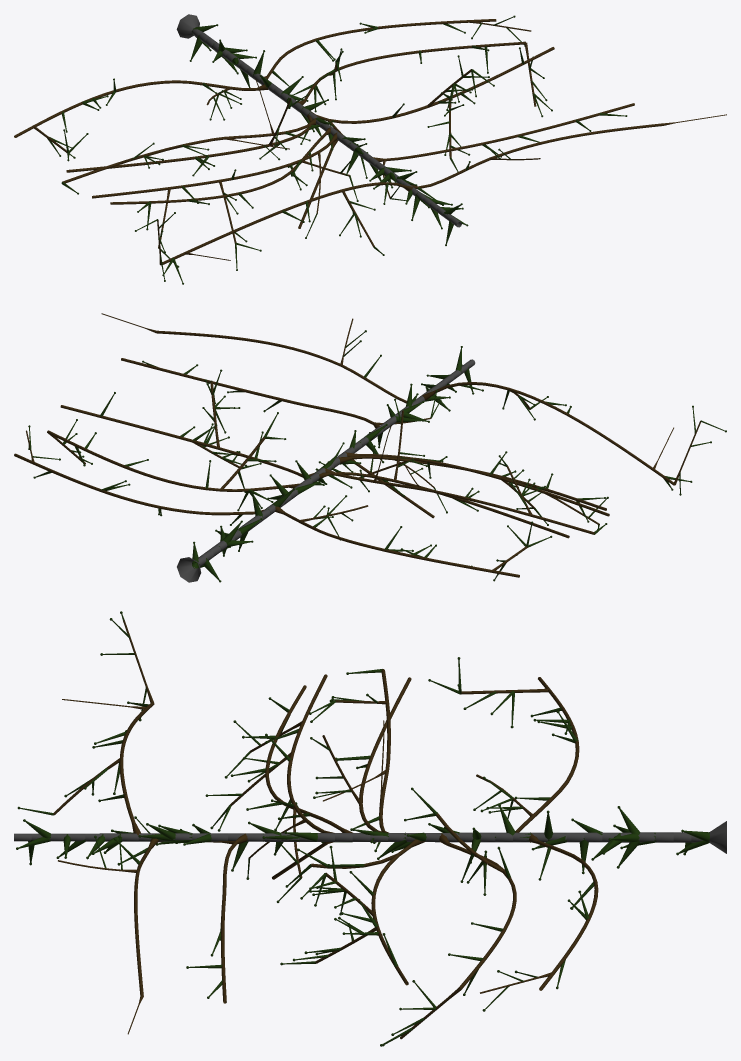
The model's file is tree_11.obj.
3 views of the same model, one above another, from view 1: azimuth 30°, elevation 25°; view 2: azimuth 150°, elevation 25°; view 3: azimuth 270°, elevation 25° (orthographic). The views are drawn at different scales.
Size of the model in its own units: 5.07 by 1.01 by 4.
